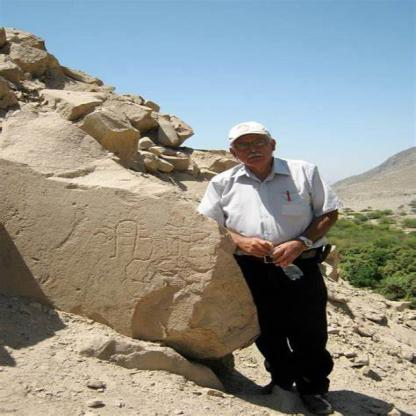person: (182, 112, 354, 415)
